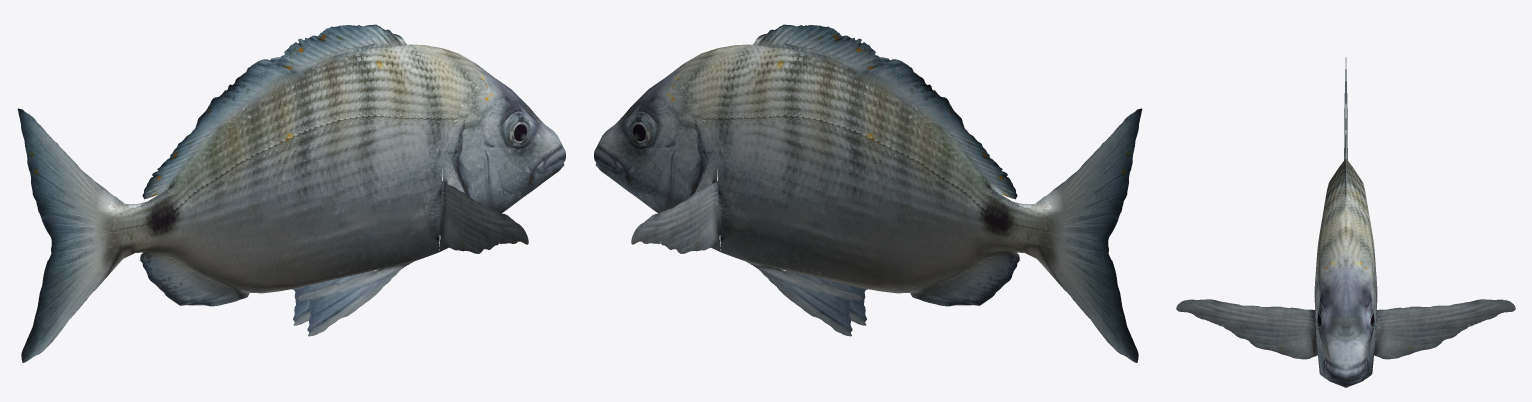
File: WhiteSeabream.gltf
3 renders of one model, left to right at view 1: azimuth 30°, elevation 25°; view 2: azimuth 150°, elevation 25°; view 3: azimuth 270°, elevation 25°, orthographic. The views are drawn at different scales.
Parts seen in each view (by area): view 1: sargo; view 2: sargo; view 3: sargo.
Part boxes in pixels (box(x1,y1,x2,y2)): sargo: box(17, 24, 565, 362); sargo: box(594, 24, 1142, 362); sargo: box(1176, 57, 1515, 387).
Size of the model in its own units: 0.2727 by 0.1474 by 0.1842.
1 material, 1 textured.
